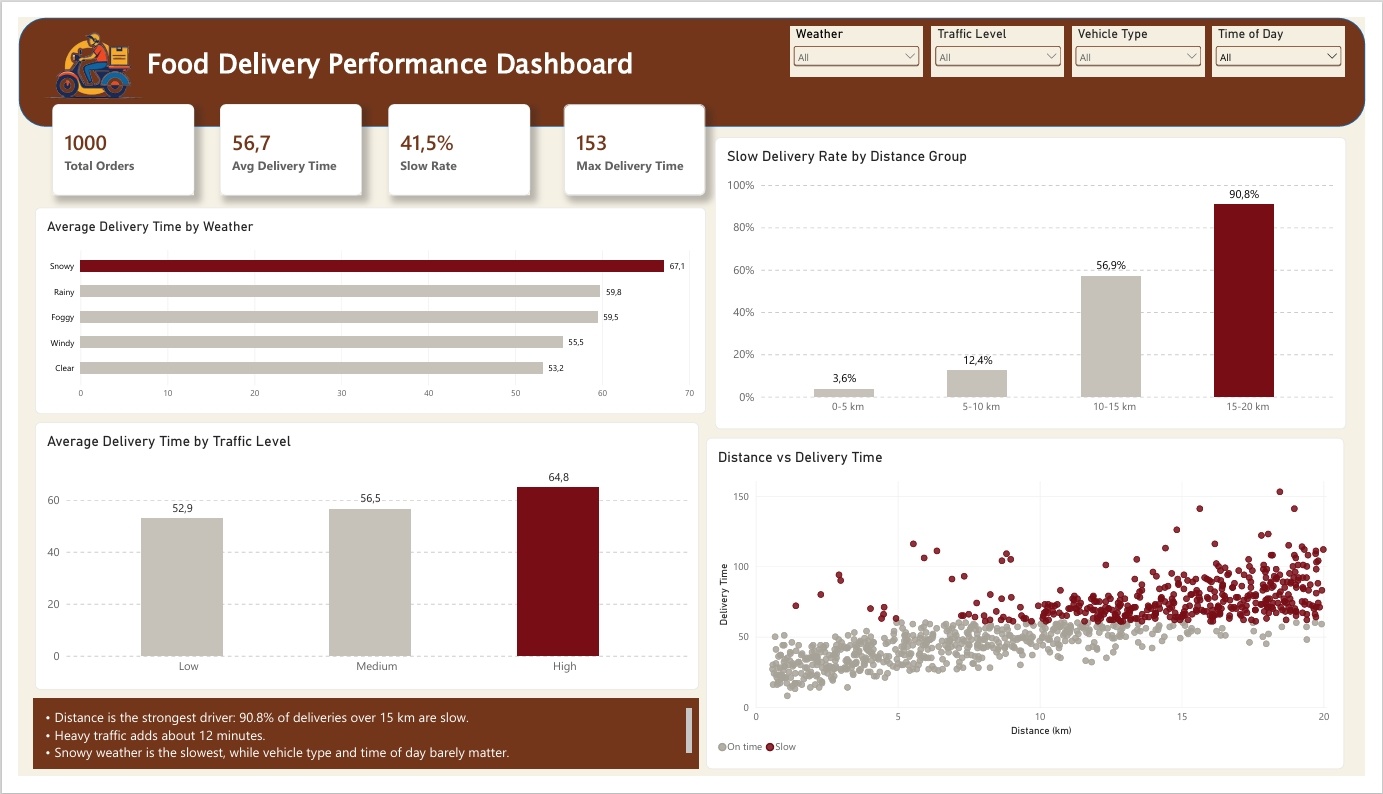

This screenshot's page, from the dashboard's own definition file:
{"tool":"powerbi","page":{"name":"Page 1","canvas":[1920,1080],"ordinal":0},"visuals":[{"type":"shape","box":[0,0,1920,155],"z":0},{"type":"textbox","box":[182.5,37.5,797.5,57.5],"z":1000},{"type":"cardVisual","fields":{"Data":["Food_Delivery_Clean.Total Orders"]},"box":[47.5,122.5,202.5,130],"z":2000},{"type":"cardVisual","fields":{"Data":["Food_Delivery_Clean.Avg Delivery Time"]},"box":[286.7,123.3,202.5,130],"z":3000},{"type":"cardVisual","fields":{"Data":["Food_Delivery_Clean.Slow Rate"]},"box":[526.7,123.3,202.5,130],"z":4000},{"type":"cardVisual","fields":{"Data":["Food_Delivery_Clean.Max Delivery Time"]},"box":[776.7,123.3,202.5,130],"z":5000},{"type":"clusteredColumnChart","title":"Slow Delivery Rate by Distance Group","fields":{"Category":["Food_Delivery_Clean.Distance_Group"],"Y":["Food_Delivery_Clean.Slow Rate"]},"box":[992.9,170,900,415.7],"z":6000},{"type":"clusteredColumnChart","title":"Average Delivery Time by Traffic Level","fields":{"Category":["Food_Delivery_Clean.Traffic_Level"],"Y":["Food_Delivery_Clean.Avg Delivery Time"]},"box":[22.9,575.7,947.1,381.4],"z":7000},{"type":"clusteredBarChart","title":"Average Delivery Time by Weather","fields":{"Category":["Food_Delivery_Clean.Weather"],"Y":["Food_Delivery_Clean.Avg Delivery Time"]},"box":[22.9,270,957.1,294.3],"z":8000},{"type":"scatterChart","title":"Distance vs Delivery Time","fields":{"Category":["Food_Delivery_Clean.Order_ID"],"Series":["Food_Delivery_Clean.Delivery_Status"],"X":["Sum(Food_Delivery_Clean.Distance_km)"],"Y":["Sum(Food_Delivery_Clean.Delivery_Time_min)"]},"box":[980,597.5,910,472.5],"z":9000},{"type":"slicer","fields":{"Values":["Food_Delivery_Clean.Weather"]},"box":[1100,11.7,188.9,72.2],"z":10000},{"type":"slicer","fields":{"Values":["Food_Delivery_Clean.Traffic_Level"]},"box":[1301.7,11.7,188.9,72.2],"z":11000},{"type":"slicer","fields":{"Values":["Food_Delivery_Clean.Vehicle_Type"]},"box":[1501.7,11.7,188.9,72.2],"z":12000},{"type":"slicer","fields":{"Values":["Food_Delivery_Clean.Time_of_Day"]},"box":[1701.7,11.7,188.9,72.2],"z":13000},{"type":"shape","box":[21.4,970,948.6,100],"z":14000},{"type":"textbox","box":[22.9,982.9,937.1,77.1],"z":15000},{"type":"image","box":[0,0,214.3,135.7],"z":15001}]}

Visuals, with their boxes in screenshot pixels (x1, y1, x2, y2), scaled from the page's 1920x1080 canvas onto the 1383x794 screenshot:
shape: rect(0, 0, 1382, 114)
textbox: rect(131, 28, 706, 70)
cardVisual - Food_Delivery_Clean.Total Orders: rect(34, 90, 180, 186)
cardVisual - Food_Delivery_Clean.Avg Delivery Time: rect(207, 91, 352, 186)
cardVisual - Food_Delivery_Clean.Slow Rate: rect(379, 91, 525, 186)
cardVisual - Food_Delivery_Clean.Max Delivery Time: rect(559, 91, 705, 186)
"Slow Delivery Rate by Distance Group" clusteredColumnChart: rect(715, 125, 1363, 431)
"Average Delivery Time by Traffic Level" clusteredColumnChart: rect(16, 423, 699, 704)
"Average Delivery Time by Weather" clusteredBarChart: rect(16, 198, 706, 415)
"Distance vs Delivery Time" scatterChart: rect(706, 439, 1361, 787)
slicer - Food_Delivery_Clean.Weather: rect(792, 9, 928, 62)
slicer - Food_Delivery_Clean.Traffic_Level: rect(938, 9, 1074, 62)
slicer - Food_Delivery_Clean.Vehicle_Type: rect(1082, 9, 1218, 62)
slicer - Food_Delivery_Clean.Time_of_Day: rect(1226, 9, 1362, 62)
shape: rect(15, 713, 699, 787)
textbox: rect(16, 723, 692, 779)
image: rect(0, 0, 154, 100)
